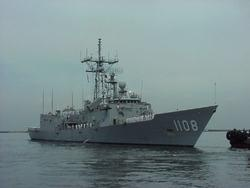warship: (25, 34, 220, 146)
